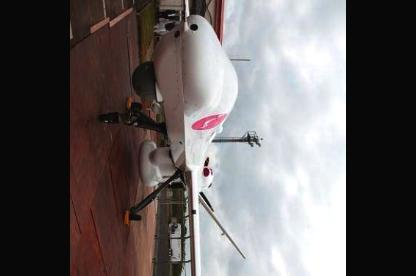MQ9: (96, 0, 249, 275)
